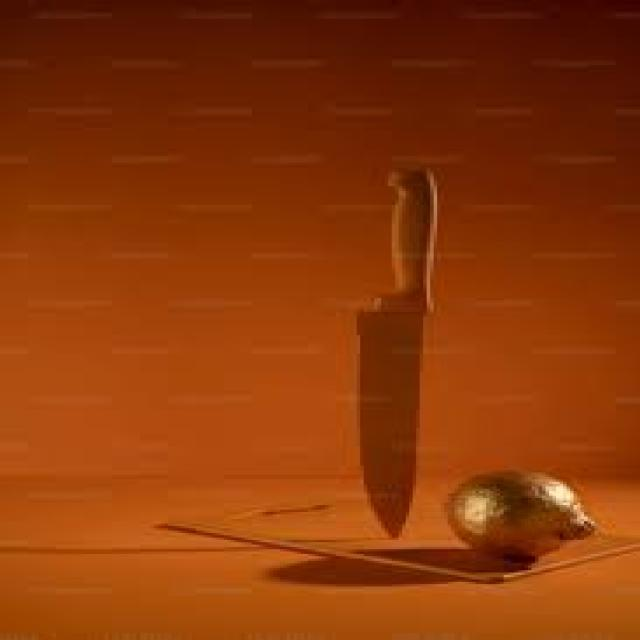Knife: (353, 163, 437, 538)
